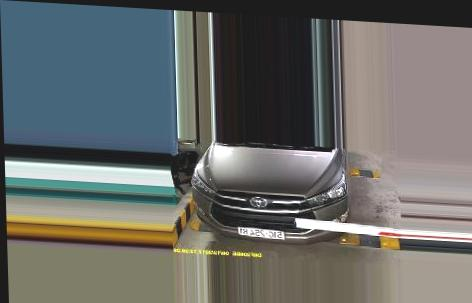License_Plate: (239, 224, 286, 239)
